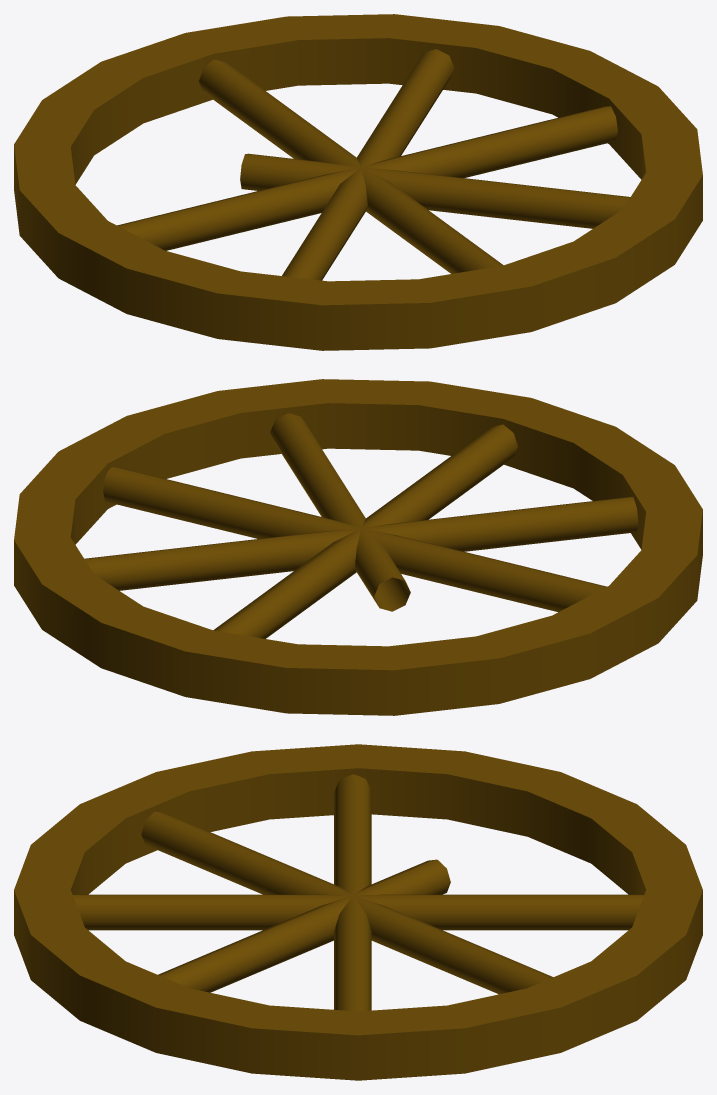
Rendered from MarshWheel.fbx.
3 renders of one model, top to bottom at view 1: azimuth 30°, elevation 25°; view 2: azimuth 150°, elevation 25°; view 3: azimuth 270°, elevation 25°, orthographic.
Visible parts, largest first — view 1: Wheel; view 2: Wheel; view 3: Wheel.
Boxes of the visible parts, x1,y1,x2,y2 form: Wheel: [14, 14, 702, 350]; Wheel: [14, 379, 702, 715]; Wheel: [14, 744, 702, 1080].
Size of the model in its own units: 2 by 0.1451 by 2.
